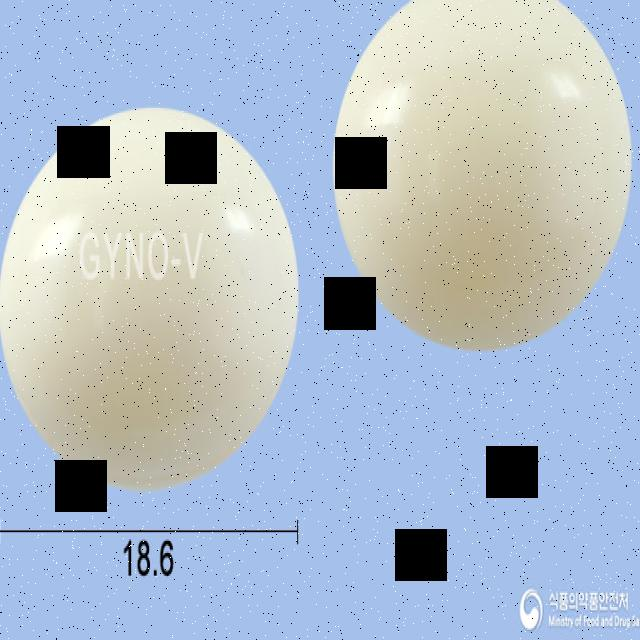Gyno-V Vaginal Soft Cap: (0, 99, 301, 487)
